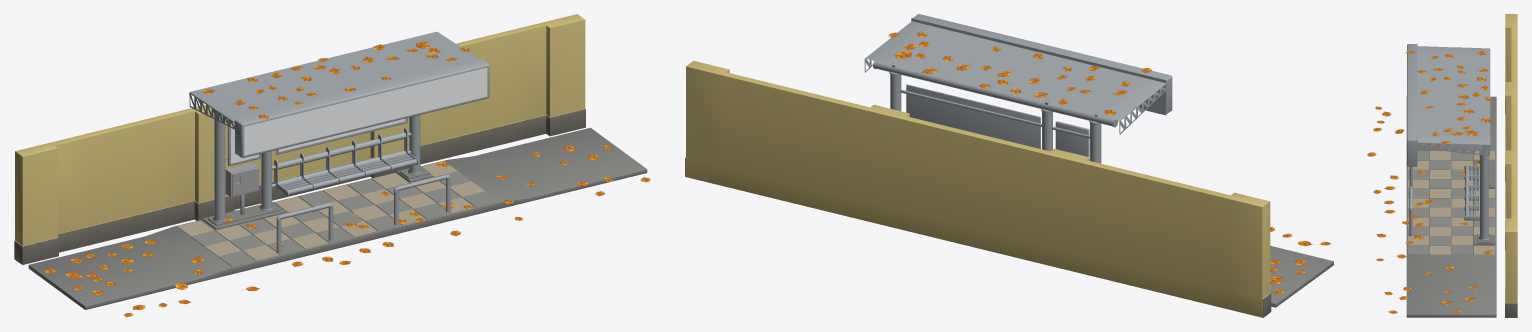
Rendered from bus-shelter.glb.
The picture shows the model from 3 angles, left to right: view 1: azimuth 30°, elevation 25°; view 2: azimuth 150°, elevation 25°; view 3: azimuth 270°, elevation 25°; orthographic projection. The views are drawn at different scales.
Parts seen in each view (by area): view 1: back_wall, pillar_base_left, pillar_center, roof_ad_screen, tile_sandstone, tile_gray, leaf_plane, electrical_box; view 2: back_wall, pillar_center, leaf_plane, pillar_base_left; view 3: pillar_center, pillar_base_left, back_wall, tile_sandstone, tile_gray, leaf_plane.
Boxes of the visible parts, x1,y1,x2,y2 form: back_wall: (14,14,585,264); pillar_base_left: (28,127,647,309); pillar_center: (189,31,489,253); roof_ad_screen: (231,67,487,163); tile_sandstone: (177,161,484,260); tile_gray: (191,171,498,266); leaf_plane: (44,41,650,317); electrical_box: (225,162,258,197); back_wall: (685,61,1271,317); pillar_center: (864,14,1172,163); leaf_plane: (888,32,1331,293); pillar_base_left: (1270,246,1333,307); pillar_center: (1407,43,1490,240); pillar_base_left: (1406,96,1496,317); back_wall: (1505,14,1517,317); tile_sandstone: (1407,151,1494,254); tile_gray: (1407,151,1494,254); leaf_plane: (1367,51,1492,313).
Bounding box in the file's own units: 12.03 × 3.04 × 3.61.
9 materials, 1 textured.
